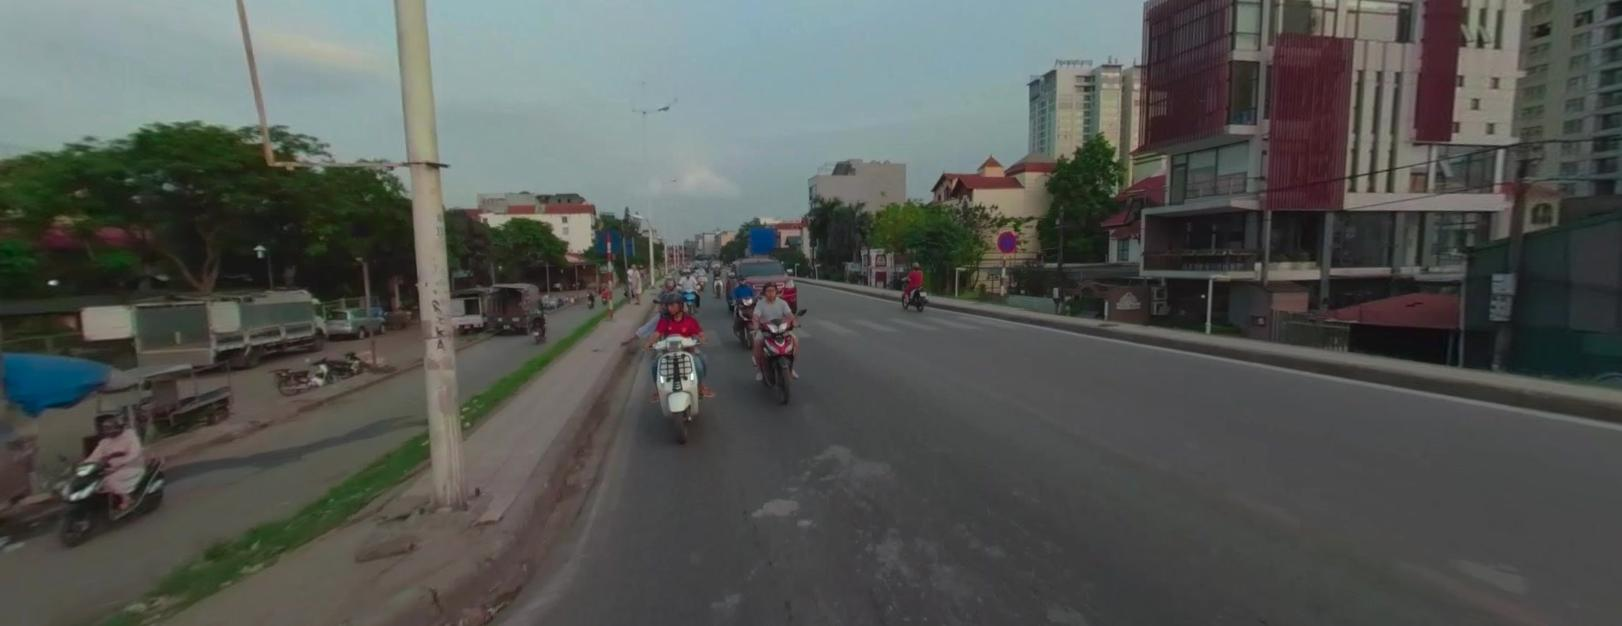Cam dung va do: (995, 229, 1016, 251)
